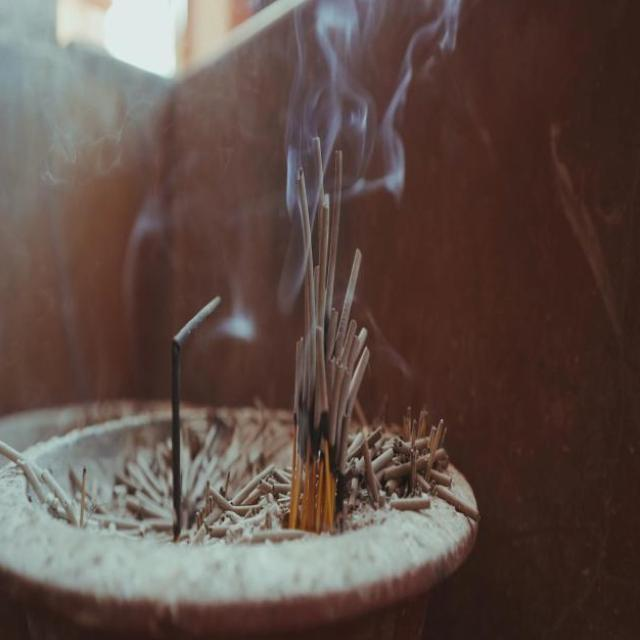fire: (275, 0, 468, 323)
